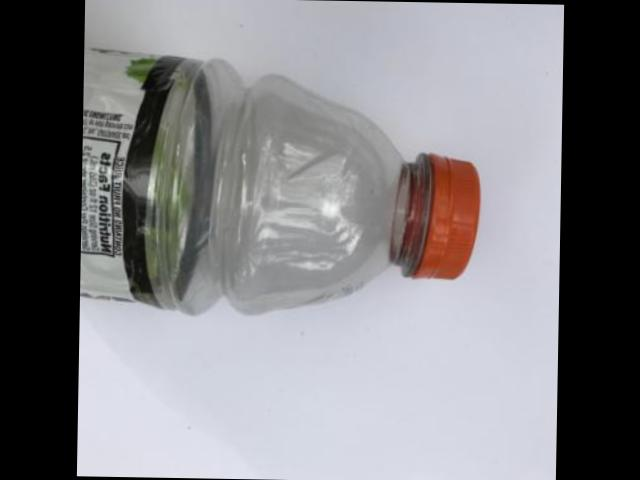plastic: (79, 51, 480, 315)
